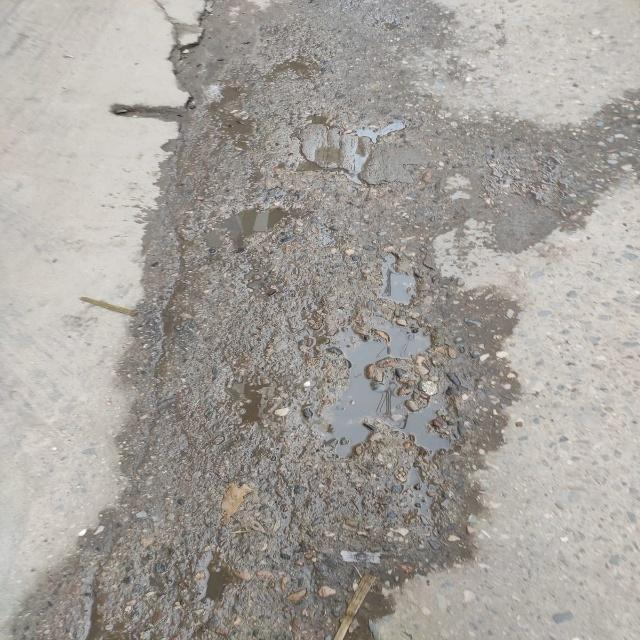Surface Erosion: (128, 22, 596, 640)
